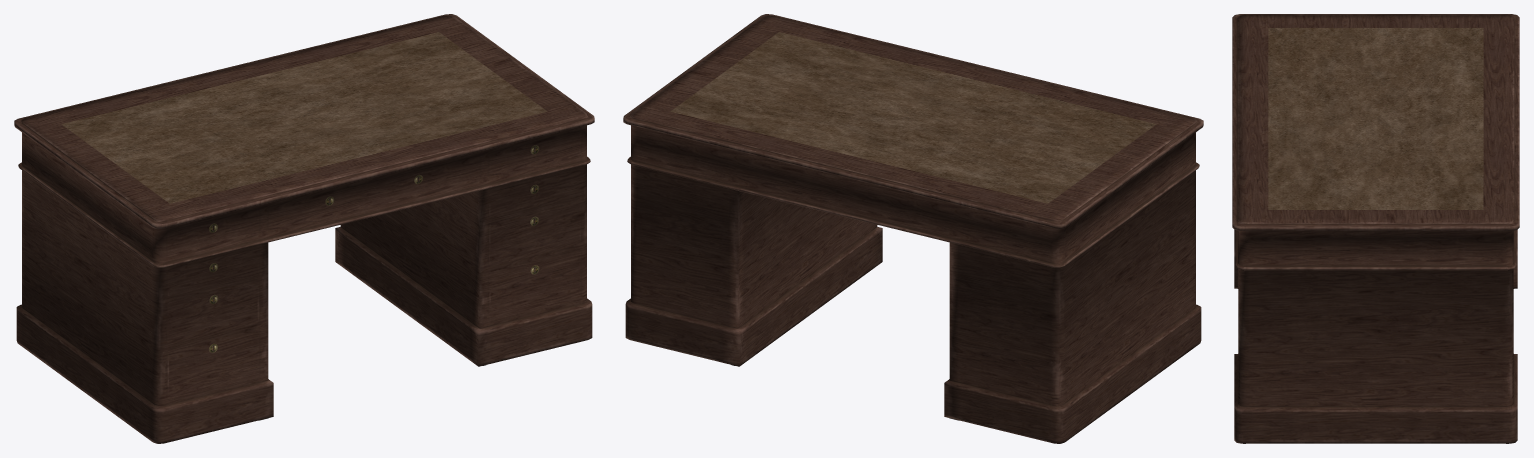
The model's file is game_ready_victorian_style_writing_desk.glb.
3 views of the same model, side by side, from view 1: azimuth 30°, elevation 25°; view 2: azimuth 150°, elevation 25°; view 3: azimuth 270°, elevation 25° (orthographic).
Parts seen in each view (by area): view 1: Cube.002_0; view 2: Cube.002_0; view 3: Cube.002_0.
Boxes of the visible parts, x1,y1,x2,y2 form: Cube.002_0: (14,14,594,443); Cube.002_0: (623,14,1203,443); Cube.002_0: (1232,14,1519,443).
Size of the model in its own units: 1.91 by 0.9226 by 1.09.
1 material, 1 textured.
